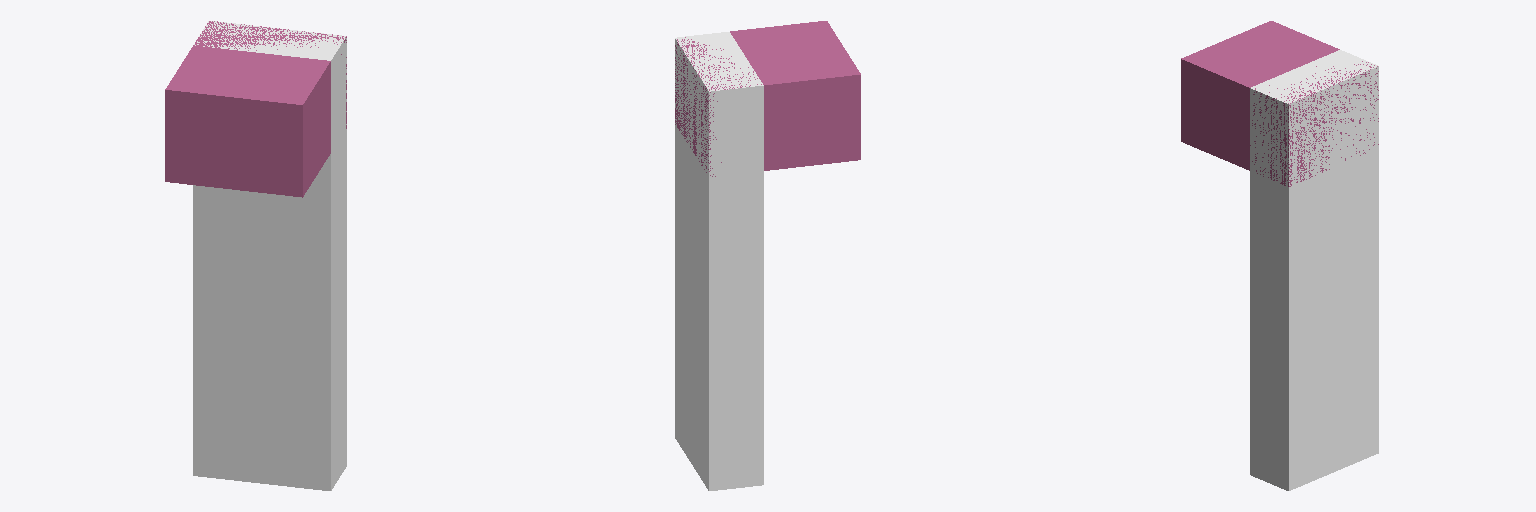
URDF robot description (panda):
<?xml version="1.0" ?>
<robot name="panda">
  <!--    Root world link-->
  <link name="world"/>
  <joint name="world_joint" type="fixed">
    <parent link="world"/>
    <child link="omni_base_root_link"/>
  </joint>
  <link name="omni_base_root_link"/>
  <link name="x_slider">
    <inertial>
      <origin rpy="0 0 0" xyz="0.0 0.0 0.0"/>
      <mass value="0.01"/>
      <inertia ixx="0.01" ixy="0.0" ixz="0.0" iyy="0.01" iyz="0.0" izz="0.01"/>
    </inertial>
  </link>
  <link name="y_slider">
    <inertial>
      <origin rpy="0 0 0" xyz="0.0 0.0 0.0"/>
      <mass value="0.01"/>
      <inertia ixx="0.01" ixy="0.0" ixz="0.0" iyy="0.01" iyz="0.0" izz="0.01"/>
    </inertial>
  </link>
  <link name="pivot">
    <inertial>
      <origin rpy="0 0 0" xyz="0.0 0.0 0.0"/>
      <mass value="0.01"/>
      <inertia ixx="0.01" ixy="0.0" ixz="0.0" iyy="0.01" iyz="0.0" izz="0.01"/>
    </inertial>
  </link>
  <joint name="x_base_joint" type="prismatic">
    <parent link="omni_base_root_link"/>
    <child link="x_slider"/>
    <origin rpy="0 0 0" xyz="0.0 0.0 0.0"/>
    <axis xyz="1 0 0"/>
    <limit effort="1000.0" lower="-10" upper="10" velocity="1.0"/>
    <dynamics damping="0.0" friction="10"/>
  </joint>
  <transmission name="transmision_x_base_joint">
    <type>transmission_interface/SimpleTransmission</type>
    <joint name="x_base_joint">
      <hardwareInterface>hardware_interface/EffortJointInterface</hardwareInterface>
    </joint>
    <actuator name="x_base_joint_motor">
      <mechanicalReduction>1</mechanicalReduction>
    </actuator>
  </transmission>
  <joint name="y_base_joint" type="prismatic">
    <parent link="x_slider"/>
    <child link="y_slider"/>
    <origin rpy="0 0 0" xyz="0.0 0.0 0.0"/>
    <axis xyz="0 1 0"/>
    <limit effort="1000.0" lower="-10" upper="10" velocity="1.0"/>
    <dynamics damping="0.0" friction="10"/>
  </joint>
  <transmission name="transmision_y_base_joint">
    <type>transmission_interface/SimpleTransmission</type>
    <joint name="y_base_joint">
      <hardwareInterface>hardware_interface/EffortJointInterface</hardwareInterface>
    </joint>
    <actuator name="y_base_joint_motor">
      <mechanicalReduction>1</mechanicalReduction>
    </actuator>
  </transmission>
  <joint name="pivot_joint" type="revolute">
    <parent link="y_slider"/>
    <child link="pivot"/>
    <origin rpy="0 0 0" xyz="0.0 0.0 0.0"/>
    <axis xyz="0 0 1"/>
    <limit effort="1000.0" lower="-10.0" upper="10.0" velocity="1.0"/>
    <dynamics damping="0.0" friction="10"/>
  </joint>
  <transmission name="transmision_pivot_joint">
    <type>transmission_interface/SimpleTransmission</type>
    <joint name="pivot_joint">
      <hardwareInterface>hardware_interface/EffortJointInterface</hardwareInterface>
    </joint>
    <actuator name="pivot_joint_motor">
      <mechanicalReduction>1</mechanicalReduction>
    </actuator>
  </transmission>
  <joint name="omni_base_flange" type="fixed">
    <parent link="pivot"/>
    <child link="base_link"/>
  </joint>
  <material name="dark_grey">
    <color rgba="0.2 0.2 0.2 1.0"/>
  </material>
  <material name="light_grey">
    <color rgba="0.4 0.4 0.4 1.0"/>
  </material>
  <material name="red">
    <color rgba="0.8 0.0 0.0 1.0"/>
  </material>
  <material name="white">
    <color rgba="0.9 0.9 0.9 1.0"/>
  </material>
  <material name="yellow">
    <color rgba="0.8 0.8 0.0 1.0"/>
  </material>
  <material name="black">
    <color rgba="0.15 0.15 0.15 1.0"/>
  </material>
  <!--    Only base link contains the collision bodies-->
  <link name="base_link">
    <inertial>
      <origin rpy="0 0 0" xyz="0 0 0.25"/>
      <mass value="1.0"/>
      <inertia ixx="0.048966669" ixy="0" ixz="0" iyy="0.046466667" iyz="0" izz="0.0041666669"/>
    </inertial>
  </link>
  <joint name="base_link_joint" type="fixed">
    <origin rpy="0 0 0" xyz="0 0 0"/>
    <parent link="base_link"/>
    <child link="chassis_link"/>
  </joint>
  <link name="chassis_link">
    <visual>
      <origin rpy="0 0 0" xyz="0 0 0"/>
      <geometry>
        <mesh filename="mppi_manipulation/data/meshes/ridgeback/meshes/body.stl"/>
      </geometry>
      <material name="black"/>
    </visual>
    <inertial>
      <origin rpy="1.5707963267948966 0 1.5707963267948966" xyz="0.012 0.002 0.067"/>
      <mass value="165.304"/>
      <inertia ixx="4.4744" ixy="0.03098" ixz="0.003647" iyy="7.1624" iyz="0.1228" izz="4.6155"/>
    </inertial>
  </link>
  <joint name="right_side_cover_link_joint" type="fixed">
    <origin rpy="0 0 0" xyz="0 0 0"/>
    <parent link="chassis_link"/>
    <child link="right_side_cover_link"/>
  </joint>
  <joint name="left_side_cover_link_joint" type="fixed">
    <origin rpy="0 0 0" xyz="0 0 0"/>
    <parent link="chassis_link"/>
    <child link="left_side_cover_link"/>
  </joint>
  <link name="left_side_cover_link">
    <visual>
      <origin rpy="0 0 3.141592653589793" xyz="0 0 0"/>
      <geometry>
        <mesh filename="mppi_manipulation/data/meshes/ridgeback/meshes/side-cover.stl"/>
      </geometry>
      <material name="yellow"/>
    </visual>
  </link>
  <link name="right_side_cover_link">
    <visual>
      <origin rpy="0 0 0" xyz="0 0 0"/>
      <geometry>
        <mesh filename="mppi_manipulation/data/meshes/ridgeback/meshes/side-cover.stl"/>
      </geometry>
      <material name="yellow"/>
    </visual>
  </link>
  <joint name="front_cover_link_joint" type="fixed">
    <origin rpy="0 0 0" xyz="0 0 0"/>
    <parent link="chassis_link"/>
    <child link="front_cover_link"/>
  </joint>
  <link name="front_cover_link">
    <visual>
      <origin rpy="0 0 0" xyz="0 0 0"/>
      <geometry>
        <mesh filename="mppi_manipulation/data/meshes/ridgeback/meshes/end-cover.stl"/>
      </geometry>
      <material name="black"/>
    </visual>
  </link>
  <joint name="rear_cover_link_joint" type="fixed">
    <origin rpy="0 0 0" xyz="0 0 0"/>
    <parent link="chassis_link"/>
    <child link="rear_cover_link"/>
  </joint>
  <link name="rear_cover_link">
    <visual>
      <origin rpy="0 0 3.141592653589793" xyz="0 0 0"/>
      <geometry>
        <mesh filename="mppi_manipulation/data/meshes/ridgeback/meshes/end-cover.stl"/>
      </geometry>
      <material name="black"/>
    </visual>
  </link>
  <joint name="front_lights_link_joint" type="fixed">
    <origin rpy="0 0 0" xyz="0 0 0"/>
    <parent link="chassis_link"/>
    <child link="front_lights_link"/>
  </joint>
  <joint name="rear_lights_link_joint" type="fixed">
    <origin rpy="0 0 0" xyz="0 0 0"/>
    <parent link="chassis_link"/>
    <child link="rear_lights_link"/>
  </joint>
  <link name="front_lights_link">
    <visual>
      <origin rpy="0 0 0" xyz="0 0 0"/>
      <geometry>
        <mesh filename="mppi_manipulation/data/meshes/ridgeback/meshes/lights.stl"/>
      </geometry>
      <material name="white"/>
    </visual>
  </link>
  <link name="rear_lights_link">
    <visual>
      <origin rpy="0 0 3.141592653589793" xyz="0 0 0"/>
      <geometry>
        <mesh filename="mppi_manipulation/data/meshes/ridgeback/meshes/lights.stl"/>
      </geometry>
      <material name="red"/>
    </visual>
  </link>
  <joint name="top_link_joint" type="fixed">
    <origin rpy="0 0 0" xyz="0 0 0"/>
    <parent link="chassis_link"/>
    <child link="top_link"/>
  </joint>
  <link name="top_link">
    <visual>
      <origin rpy="0 0 0" xyz="0 0 0"/>
      <geometry>
        <mesh filename="mppi_manipulation/data/meshes/ridgeback/meshes/top.stl"/>
      </geometry>
      <material name="black"/>
    </visual>
  </link>
  <joint name="axle_joint" type="fixed">
    <origin rpy="0 0 0" xyz="0 0 0.05"/>
    <parent link="chassis_link"/>
    <child link="axle_link"/>
  </joint>
  <link name="axle_link">
    <visual>
      <origin rpy="0 1.5707963267948966 0" xyz="0 0 0"/>
      <geometry>
        <mesh filename="mppi_manipulation/data/meshes/ridgeback/meshes/axle.stl"/>
      </geometry>
      <material name="black"/>
    </visual>
  </link>
  <link name="imu_link">
    <inertial>
      <mass value="0.001"/>
      <origin rpy="0 0 0" xyz="0 0 0"/>
      <inertia ixx="1e-09" ixy="0.0" ixz="0.0" iyy="1e-09" iyz="0.0" izz="1e-09"/>
    </inertial>
  </link>
  <joint name="imu_joint" type="fixed">
    <parent link="chassis_link"/>
    <child link="imu_link"/>
    <origin rpy="0 0 0" xyz="0.2085 -0.2902 0.1681"/>
  </joint>
  <link name="mid_mount"/>
  <joint name="mid_mount_joint" type="fixed">
    <parent link="base_link"/>
    <child link="mid_mount"/>
    <origin rpy="0 0 0" xyz="0 0 0.28"/>
  </joint>
  <!-- Sensor mount -->
  <link name="ridgeback_sensor_mount_link">
    <!--
    <visual>
        <geometry>
            <mesh filename="mppi_manipulation/data/meshes/ridgeback_sensor_mount.dae"/>
        </geometry>
    </visual> -->
  </link>
  <joint name="ridgeback_sensor_mount_joint" type="fixed">
    <origin rpy="0 0 1.571" xyz="0 0 0"/>
    <parent link="mid_mount"/>
    <child link="ridgeback_sensor_mount_link"/>
  </joint>
  <link name="reference_link"/>
  <joint name="reference_link_joint" type="fixed">
    <origin rpy="0 0 0" xyz="-0.343 0 0.77"/>
    <parent link="mid_mount"/>
    <child link="reference_link"/>
  </joint>
  <!--Mount panda on ridgeback-->
  <joint name="arm_mount_joint" type="fixed">
    <parent link="mid_mount"/>
    <child link="franka_mount_link"/>
    <!--        <origin xyz="$(optenv RIDGEBACK_FRANKA_XYZ 0.21 0.0 0.2)" rpy="$(optenv RIDGEBACK_FRANKA_RPY 0 0 0)"/>-->
    <origin rpy="0 0 0" xyz="0.295 0.005 0.445"/>
  </joint>
  <link name="franka_mount_link"/>
  <joint name="panda_joint_franka_mount_link" type="fixed">
    <parent link="franka_mount_link"/>
    <child link="panda_link0"/>
    <origin rpy="0 0 0" xyz="0 0 0"/>
  </joint>
  <!--
      <gazebo>
        <plugin filename="libgazebo_ros_control.so" name="gazebo_ros_control">
          <robotNamespace>/</robotNamespace>
          <robotParam>/</robotParam>
        </plugin>
      </gazebo>
      <gazebo reference="panda_link0"/>
      <gazebo reference="panda_link1"/>
      <gazebo reference="panda_link2"/>
      <gazebo reference="panda_link3"/>
      <gazebo reference="panda_link4"/>
      <gazebo reference="panda_link5"/>
      <gazebo reference="panda_link6"/>
      <gazebo reference="panda_link7"/>
      <gazebo reference="panda_link8"/>
  -->
  <transmission name="panda_joint1_trans">
    <type>transmission_interface/SimpleTransmission</type>
    <joint name="panda_joint1">
      <hardwareInterface>hardware_interface/EffortJointInterface</hardwareInterface>
    </joint>
    <actuator name="panda_joint1_motor">
      <mechanicalReduction>1</mechanicalReduction>
    </actuator>
  </transmission>
  <transmission name="panda_joint2_trans">
    <type>transmission_interface/SimpleTransmission</type>
    <joint name="panda_joint2">
      <hardwareInterface>hardware_interface/EffortJointInterface</hardwareInterface>
    </joint>
    <actuator name="panda_joint2_motor">
      <mechanicalReduction>1</mechanicalReduction>
    </actuator>
  </transmission>
  <transmission name="panda_joint3_trans">
    <type>transmission_interface/SimpleTransmission</type>
    <joint name="panda_joint3">
      <hardwareInterface>hardware_interface/EffortJointInterface</hardwareInterface>
    </joint>
    <actuator name="panda_joint3_motor">
      <mechanicalReduction>1</mechanicalReduction>
    </actuator>
  </transmission>
  <transmission name="panda_joint4_trans">
    <type>transmission_interface/SimpleTransmission</type>
    <joint name="panda_joint4">
      <hardwareInterface>hardware_interface/EffortJointInterface</hardwareInterface>
    </joint>
    <actuator name="panda_joint4_motor">
      <mechanicalReduction>1</mechanicalReduction>
    </actuator>
  </transmission>
  <transmission name="panda_joint5_trans">
    <type>transmission_interface/SimpleTransmission</type>
    <joint name="panda_joint5">
      <hardwareInterface>hardware_interface/EffortJointInterface</hardwareInterface>
    </joint>
    <actuator name="panda_joint5_motor">
      <mechanicalReduction>1</mechanicalReduction>
    </actuator>
  </transmission>
  <transmission name="panda_joint6_trans">
    <type>transmission_interface/SimpleTransmission</type>
    <joint name="panda_joint6">
      <hardwareInterface>hardware_interface/EffortJointInterface</hardwareInterface>
    </joint>
    <actuator name="panda_joint6_motor">
      <mechanicalReduction>1</mechanicalReduction>
    </actuator>
  </transmission>
  <transmission name="panda_joint7_trans">
    <type>transmission_interface/SimpleTransmission</type>
    <joint name="panda_joint7">
      <hardwareInterface>hardware_interface/EffortJointInterface</hardwareInterface>
    </joint>
    <actuator name="panda_joint7_motor">
      <mechanicalReduction>1</mechanicalReduction>
    </actuator>
  </transmission>



  <!-- arm links start here -->
  <link name="panda_link0">
    <inertial>
      <mass value="0.01"/>
      <origin rpy="0 0 0" xyz="0 0 0"/>
      <inertia ixx="0.001" ixy="0" ixz="0" iyy="0.001" iyz="0" izz="0.001"/>
    </inertial>
  </link>
  <link name="panda_link1">
   <inertial>
      <mass value="0.01"/>
      <origin rpy="0 0 0" xyz="0 0 0"/>
      <inertia ixx="0.001" ixy="0" ixz="0" iyy="0.001" iyz="0" izz="0.001"/>
    </inertial>
  </link>
  <!-- panda_joint1 is a dummy joint (i.e. panda_link1 is not connected to anything downstream) -->
  <joint name="panda_joint1" type="prismatic">
    <safety_controller k_position="100.0" k_velocity="40.0" soft_lower_limit="-10" soft_upper_limit="10"/>
    <origin rpy="0 0 0" xyz="0 0 0"/>
    <parent link="panda_link0"/>
    <child link="panda_link1"/>
    <axis xyz="1 0 0"/>
    <limit effort="1000" lower="-20" upper="20" velocity="10"/>
    <dynamics damping="0.0" friction="0.0"/>
  </joint>
  <link name="panda_link2">
    <inertial>
      <mass value="0.01"/>
      <origin rpy="0 0 0" xyz="0 0 0"/>
      <inertia ixx="0.001" ixy="0" ixz="0" iyy="0.001" iyz="0" izz="0.001"/>
    </inertial>
  </link>
  <joint name="panda_joint2" type="prismatic">
    <safety_controller k_position="100.0" k_velocity="40.0" soft_lower_limit="-10" soft_upper_limit="10"/>
    <origin rpy="0 0 0" xyz="0 0 0"/>
    <parent link="panda_link0"/>
    <child link="panda_link2"/>
    <axis xyz="1 0 0"/>
    <limit effort="1000" lower="-20" upper="20" velocity="10"/>
    <dynamics damping="0.0" friction="0.0"/>
  </joint>
  <link name="panda_link3">
    <inertial>
      <mass value="0.01"/>
      <origin rpy="0 0 0" xyz="0 0 0"/>
      <inertia ixx="0.001" ixy="0" ixz="0" iyy="0.001" iyz="0" izz="0.001"/>
    </inertial>
  </link>
  <joint name="panda_joint3" type="prismatic">
    <safety_controller k_position="100.0" k_velocity="40.0" soft_lower_limit="-10" soft_upper_limit="10"/>
    <origin rpy="0 0 0" xyz="0 0 0"/>
    <parent link="panda_link2"/>
    <child link="panda_link3"/>
    <axis xyz="0 1 0"/>
    <limit effort="1000" lower="-20" upper="20" velocity="10"/>
    <dynamics damping="0.0" friction="0.0"/>
  </joint>
  <link name="panda_link4">
    <inertial>
      <mass value="0.01"/>
      <origin rpy="0 0 0" xyz="0 0 0"/>
      <inertia ixx="0.001" ixy="0" ixz="0" iyy="0.001" iyz="0" izz="0.001"/>
    </inertial>
  </link>
  <joint name="panda_joint4" type="prismatic">
    <safety_controller k_position="100.0" k_velocity="40.0" soft_lower_limit="-10" soft_upper_limit="10"/>
    <origin rpy="0 0 0" xyz="0 0 0"/>
    <parent link="panda_link3"/>
    <child link="panda_link4"/>
    <axis xyz="0 0 1"/>
    <limit effort="87" lower="-20" upper="20" velocity="10"/>
    <dynamics damping="0.0" friction="0.0"/>
  </joint>
  <link name="panda_link5">
    <inertial>
      <mass value="0.01"/>
      <origin rpy="0 0 0" xyz="0 0 0"/>
      <inertia ixx="0.001" ixy="0" ixz="0" iyy="0.001" iyz="0" izz="0.001"/>
    </inertial>
  </link>
  <joint name="panda_joint5" type="revolute">
    <safety_controller k_position="100.0" k_velocity="40.0" soft_lower_limit="-30" soft_upper_limit="30"/>
    <origin rpy="0 0 0" xyz="0 0 0"/>
    <parent link="panda_link4"/>
    <child link="panda_link5"/>
    <axis xyz="1 0 0"/>
    <limit effort="87" lower="-60" upper="60" velocity="30"/>
    <dynamics damping="0.0" friction="0.0"/>
  </joint>
  <link name="panda_link6">
    <inertial>
      <mass value="0.01"/>
      <origin rpy="0 0 0" xyz="0 0 0"/>
      <inertia ixx="0.001" ixy="0" ixz="0" iyy="0.001" iyz="0" izz="0.001"/>
    </inertial>
  </link>
  <joint name="panda_joint6" type="revolute">
    <safety_controller k_position="100.0" k_velocity="40.0" soft_lower_limit="-30" soft_upper_limit="30"/>
    <origin rpy="0 0 0" xyz="0 0 0"/>
    <parent link="panda_link5"/>
    <child link="panda_link6"/>
    <axis xyz="0 1 0"/>
    <limit effort="87" lower="-60" upper="60" velocity="30"/>
    <dynamics damping="0.0" friction="0.0"/>
  </joint>
  <link name="panda_link7">
    <inertial>
      <mass value="0.01"/>
      <origin rpy="0 0 0" xyz="0 0 0"/>
      <inertia ixx="0.001" ixy="0" ixz="0" iyy="0.001" iyz="0" izz="0.001"/>
    </inertial>
  </link>
  <joint name="panda_joint7" type="revolute">
    <safety_controller k_position="100.0" k_velocity="40.0" soft_lower_limit="-30" soft_upper_limit="30"/>
    <origin rpy="0 0 0" xyz="0 0 0"/>
    <parent link="panda_link6"/>
    <child link="panda_link7"/>
    <axis xyz="0 0 1"/>
    <limit effort="87" lower="-60" upper="60" velocity="30"/>
    <dynamics damping="0.0" friction="0.0"/>
  </joint>


  <!-- hand starts here -->
  <link name="panda_link8">
    <inertial>
      <mass value="0.01"/>
      <origin rpy="0 0 0" xyz="0 0 0"/>
      <inertia ixx="0.001" ixy="0" ixz="0" iyy="0.001" iyz="0" izz="0.001"/>
    </inertial>
  </link>
  <joint name="panda_joint8" type="fixed">
    <origin rpy="0 0 0" xyz="0 0 0.107"/>
    <parent link="panda_link7"/>
    <child link="panda_link8"/>
    <axis xyz="0 0 0"/>
  </joint>
  <joint name="panda_hand_joint" type="fixed">
    <parent link="panda_link8"/>
    <child link="panda_hand"/>
    <origin rpy="0 0 -0.785398163397" xyz="0 0 0"/>
  </joint>
  <link name="panda_hand">
    <inertial>
      <mass value="0.73"/>
      <origin rpy="0 0 0" xyz="0 0.0015244 0.0275912"/>
      <inertia ixx="0.00278560230025" ixy="0.0" ixz="0.0" iyy="0.000400033405336" iyz="0.0" izz="0.00256378041832"/>
    </inertial>
    <visual>
      <origin rpy="0 0 0" xyz="0 0 0"/>
      <geometry>
        <mesh filename="mppi_panda/resources/panda/meshes/visual/hand.dae"/>
      </geometry>
      <material name="">
        <color rgba="1 1 1 1"/>
      </material>
    </visual>
    <collision>
      <!--origin rpy="0 0 0" xyz="0 0 0"/-->
      <origin rpy="0 0 0" xyz="0 0 0.0333"/>
      <geometry>
        <box size="0.035 0.19 0.065"/>
      </geometry>
      <material name="">
        <contact name="steel"/>
        <!-- for raisim -->
      </material>
    </collision>
  </link>
  <gazebo reference="panda_hand"/>
  <gazebo reference="panda_leftfinger"/>
  <gazebo reference="panda_rightfinger"/>
  <transmission name="panda_finger_joint1_trans">
    <type>transmission_interface/SimpleTransmission</type>
    <joint name="panda_finger_joint1">
      <hardwareInterface>hardware_interface/PositionJointInterface</hardwareInterface>
    </joint>
    <actuator name="panda_finger_joint1_motor">
      <mechanicalReduction>1</mechanicalReduction>
    </actuator>
  </transmission>
  <transmission name="panda_finger_joint2_trans">
    <type>transmission_interface/SimpleTransmission</type>
    <joint name="panda_finger_joint2">
      <hardwareInterface>hardware_interface/PositionJointInterface</hardwareInterface>
    </joint>
    <actuator name="panda_finger_joint2_motor">
      <mechanicalReduction>1</mechanicalReduction>
    </actuator>
  </transmission>
  <link name="panda_leftfinger">
    <inertial>
      <mass value="0.01"/>
      <origin rpy="0 0 0" xyz="0 0.0145644 0.0227941"/>
      <inertia ixx="0.001" ixy="0.0" ixz="0.0" iyy="0.01" iyz="0.0" izz="0.001"/>
    </inertial>
    <visual>
      <origin rpy="0.0 0 3.14159265359" xyz="0 0.022 0.039"/>
      <geometry>
        <box size="0.021 0.009 0.070"/>
      </geometry>
      <material name="">
        <color rgba="1 1 1 1"/>
      </material>
    </visual>
    <visual>
      <origin rpy="0.0 0 3.14159265359" xyz="0 0.014 0.0665"/>
      <geometry>
        <box size="0.021 0.025 0.015"/>
      </geometry>
    </visual>
    <collision>
      <origin rpy="0.0 0 3.14159265359" xyz="0 0.022 0.039"/>
      <geometry>
        <box size="0.021 0.009 0.070"/>
      </geometry>
      <material name="">
        <contact name="steel"/>
        <!-- for raisim -->
      </material>
    </collision>
    <collision>
      <origin rpy="0.0 0 3.14159265359" xyz="0 0.014 0.0665"/>
      <geometry>
        <box size="0.021 0.025 0.015"/>
      </geometry>
      <material name="">
        <contact name="steel"/>
        <!-- for raisim -->
      </material>
    </collision>
  </link>
  <link name="panda_rightfinger">
    <inertial>
      <mass value="0.01"/>
      <origin rpy="0 0 0" xyz="0 0.0145644 0.0227941"/>
      <inertia ixx="0.001" ixy="0.0" ixz="0.0" iyy="0.01" iyz="0.0" izz="0.001"/>
    </inertial>
  </link>
  <joint name="panda_finger_joint1" type="prismatic">
    <parent link="panda_hand"/>
    <child link="panda_leftfinger"/>
    <origin rpy="0 0 0" xyz="0 0 0.0584"/>
    <!-- 0.0584 -->
    <axis xyz="0 1 0"/>
    <limit effort="20" lower="-0.001" upper="0.04" velocity="0.3"/>
  </joint>
  <joint name="panda_finger_joint2" type="prismatic">
    <parent link="panda_hand"/>
    <child link="panda_rightfinger"/>
    <origin rpy="0 0 0" xyz="0 0 0.0584"/>
    <!-- 0.064 -->
    <axis xyz="0 -1 0"/>
    <limit effort="20" lower="-0.001" upper="0.04" velocity="0.3"/>
  </joint>
  <link name="panda_grasp"/>
  <joint name="panda_grasp_joint" type="fixed">
    <parent link="panda_hand"/>
    <child link="panda_grasp"/>
    <axis xyz="0 1 0"/>
    <origin rpy="0 0 0" xyz="0 0 0.095"/>
    <!-- 0.106-->
  </joint>
  <link name="panda_grasp_finger"/>
  <joint name="panda_grasp__finger_joint" type="fixed">
    <parent link="panda_hand"/>
    <child link="panda_grasp_finger"/>
    <axis xyz="0 1 0"/>
    <origin rpy="0 0 0" xyz="0 0.025 0.125"/>
    <!-- 0.106-->
  </joint>
  <link name="panda_grasp_finger_edge"/>
  <joint name="panda_grasp__finger_edge_joint" type="fixed">
    <parent link="panda_hand"/>
    <child link="panda_grasp_finger_edge"/>
    <axis xyz="0 1 0"/>
    <origin rpy="0 0 0" xyz="0 0.04 0.15"/>
    <!-- 0.106-->
  </joint>
</robot>

--- What the picture shows (computed from the rendered views, not written in the file) ---
The picture shows the robot from 3 angles, left to right: view 1: azimuth 30°, elevation 25°; view 2: azimuth 150°, elevation 25°; view 3: azimuth 270°, elevation 25°; orthographic projection.
Model panda with 35 links and 34 joints (4 revolute, 8 prismatic, 22 fixed), rooted at world, posed every joint at zero.
Visible links, largest first — view 1: panda_leftfinger; view 2: panda_leftfinger; view 3: panda_leftfinger.
Link boxes in pixels (x1,y1,x2,y2): panda_leftfinger: [165, 21, 346, 490]; panda_leftfinger: [675, 21, 860, 490]; panda_leftfinger: [1181, 21, 1378, 490].
Size in the robot's own frame: 0.0325 by 0.0325 by 0.07 metres.
Meshes: 7 distinct files referenced, 0 mesh visuals loaded (none loaded); not drawn: 10 (reference not matched to a file when rendering).